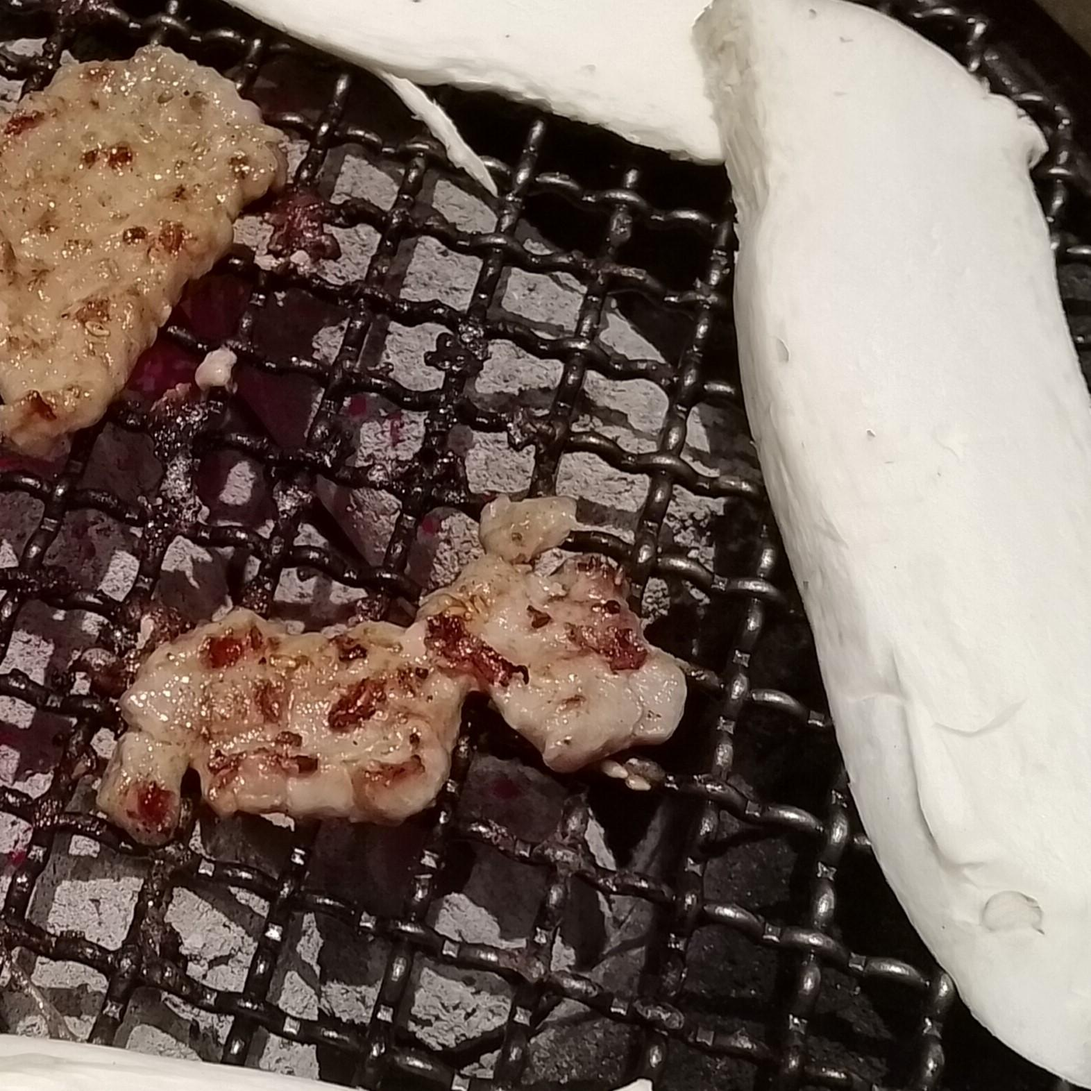Overcooked: (98, 496, 685, 838)
Well-Cooked: (0, 46, 288, 458)
